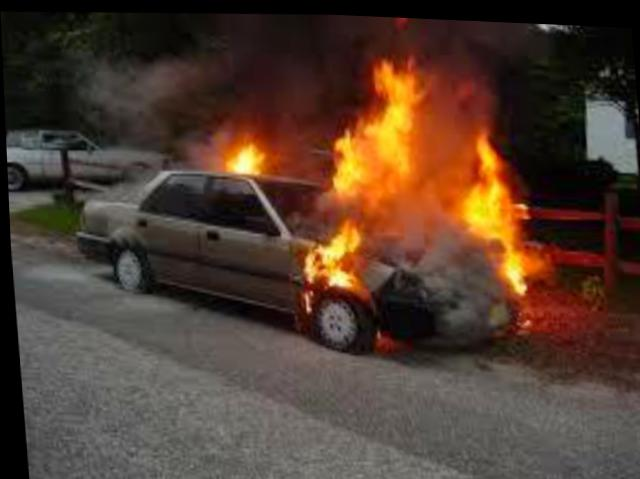fire: (309, 39, 553, 292), (201, 130, 264, 178)
